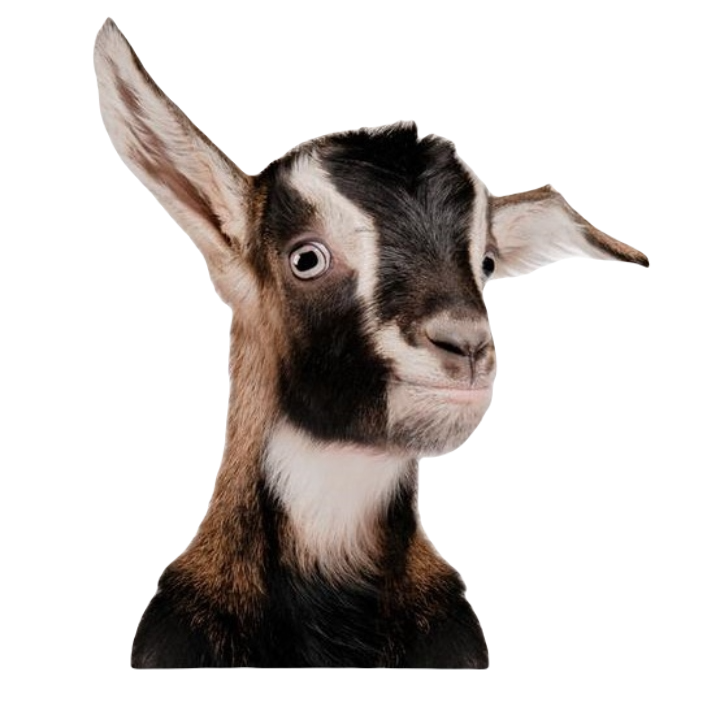Goat: (92, 19, 651, 672)
